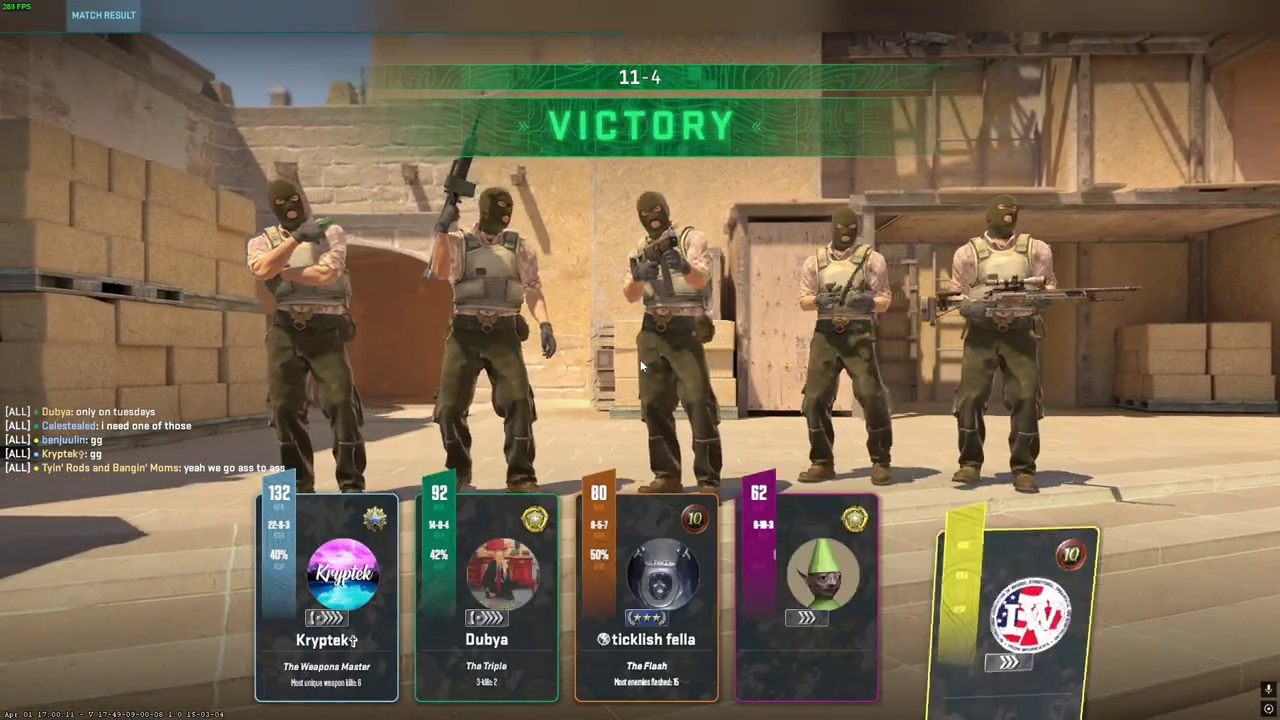Terrorist: (429, 186, 546, 493), (253, 178, 364, 494), (946, 193, 1057, 492), (629, 190, 723, 494), (798, 207, 895, 486)
